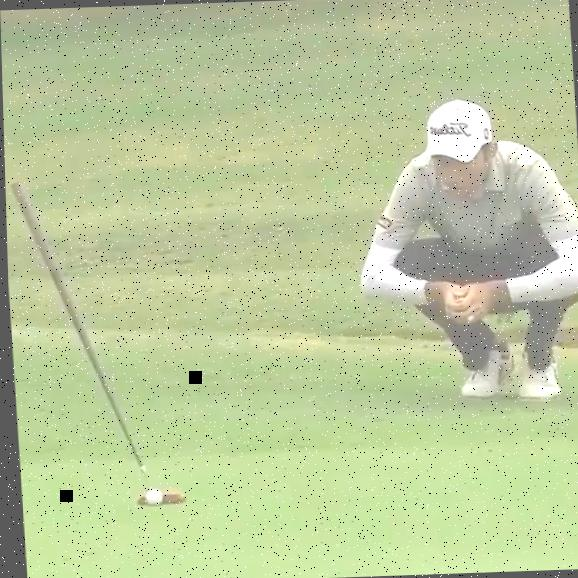ClubHead: (135, 493, 183, 506)
GolfBall: (141, 488, 161, 505)
